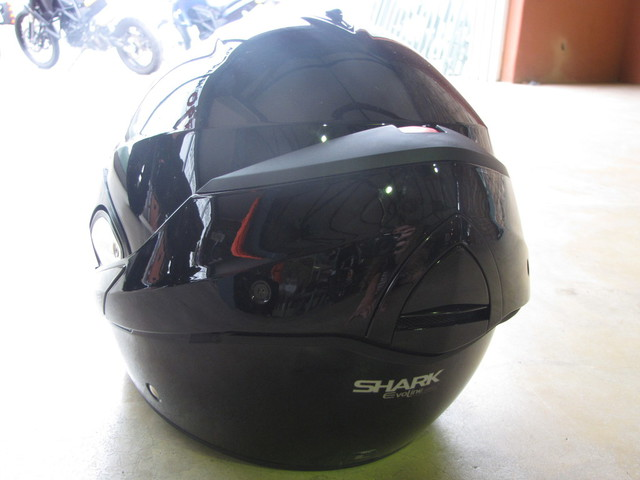helmet: (116, 41, 525, 449)
